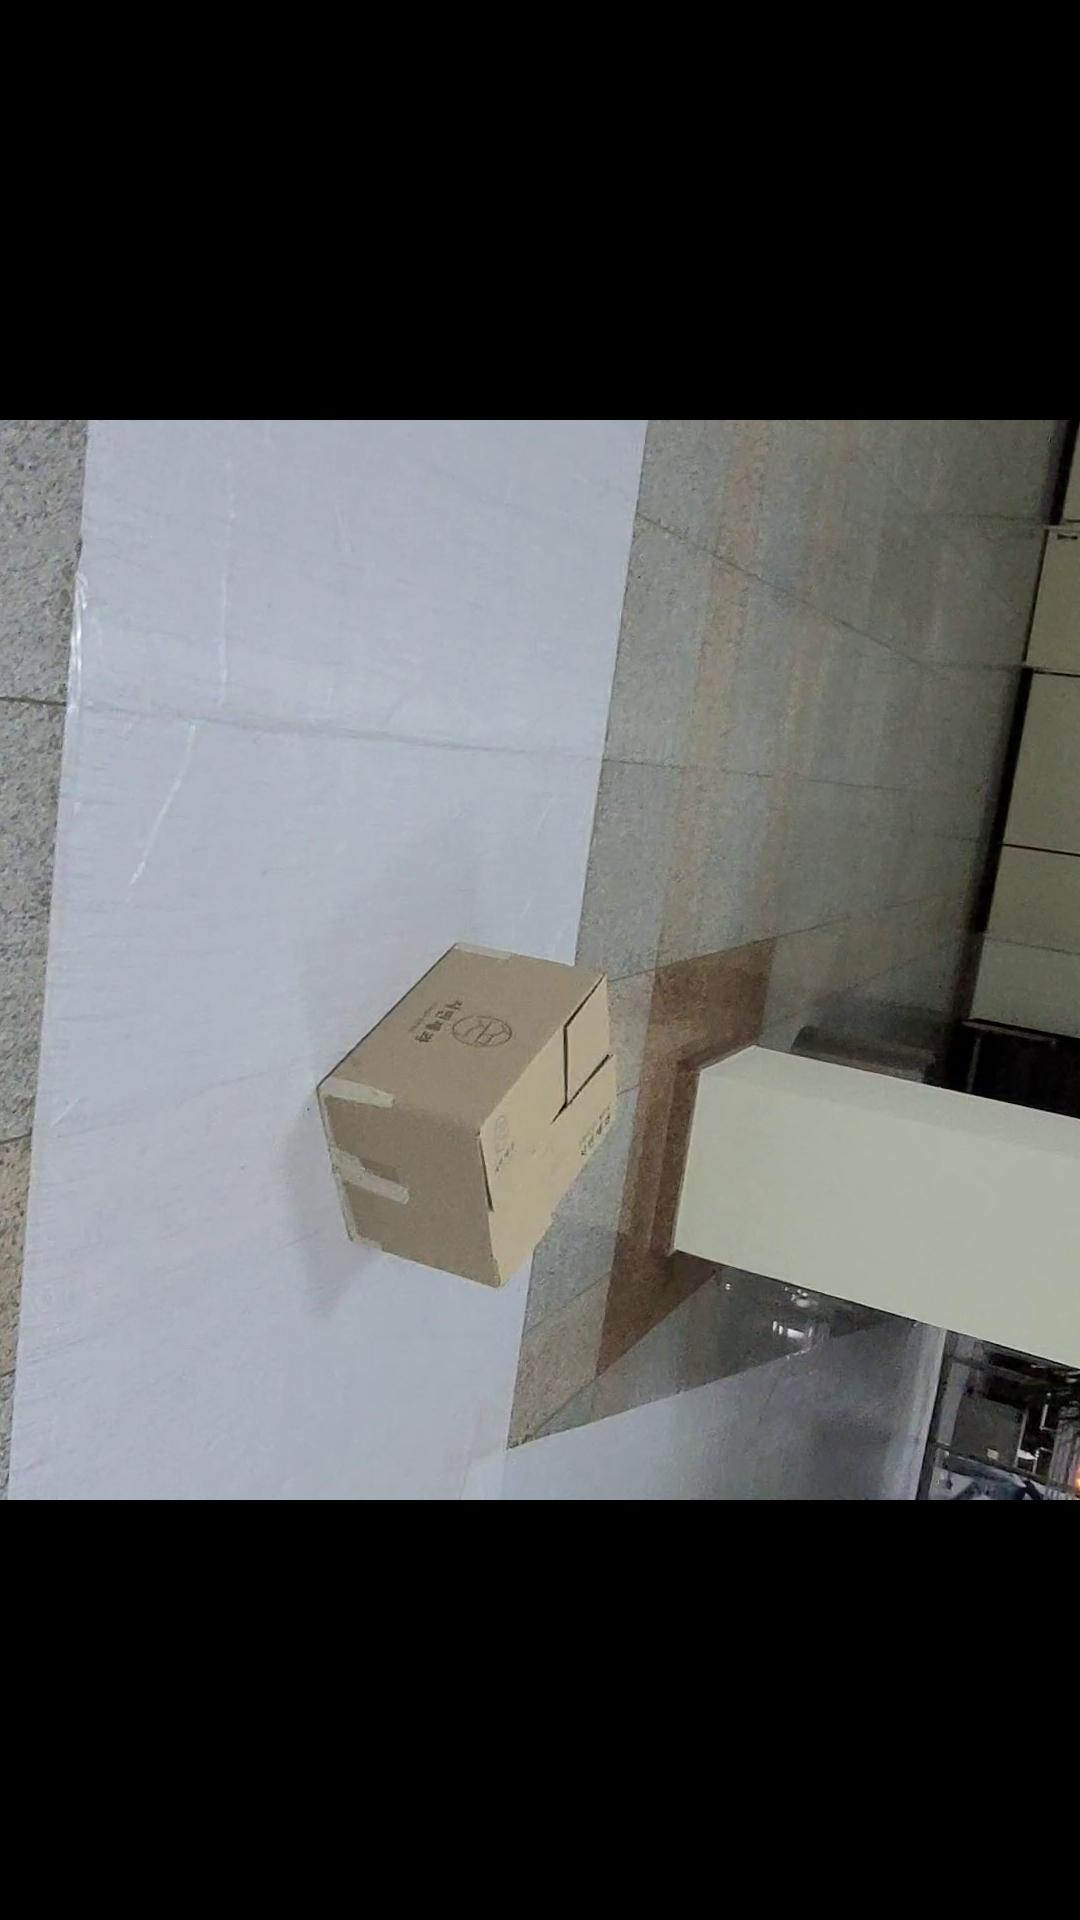Box: (277, 911, 657, 1315)
